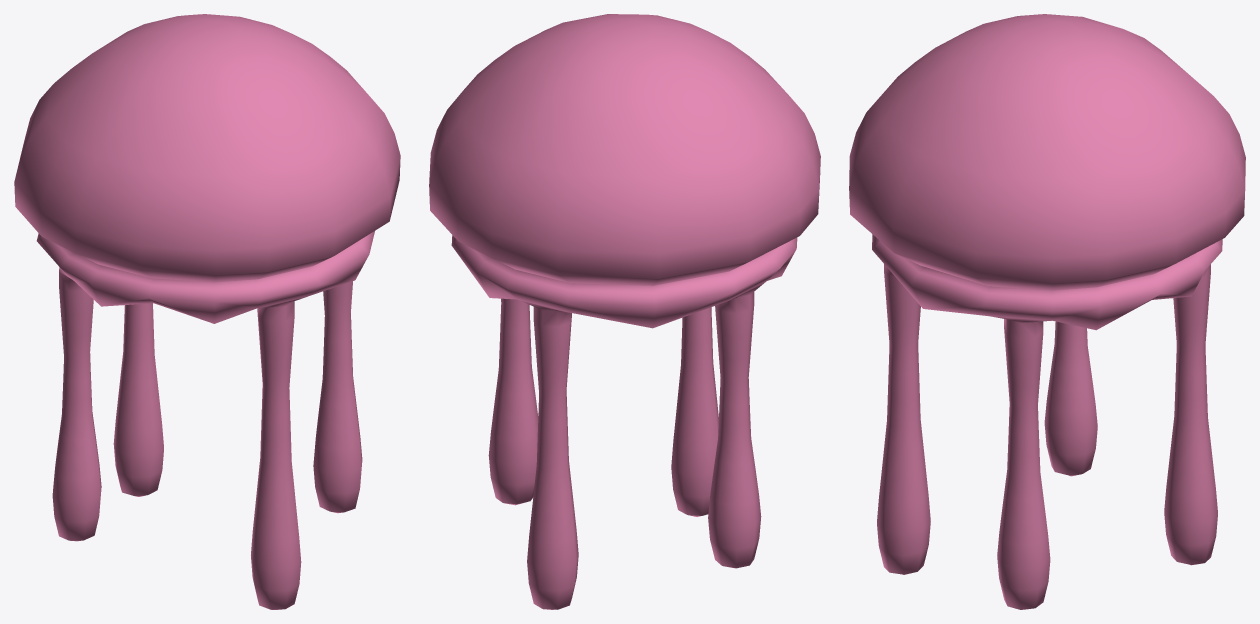
The model's file is Jellyfish.glb.
3 views of the same model, side by side, from view 1: azimuth 30°, elevation 25°; view 2: azimuth 150°, elevation 25°; view 3: azimuth 270°, elevation 25° (orthographic). The views are drawn at different scales.
Parts seen in each view (by area): view 1: Sphere; view 2: Sphere; view 3: Sphere.
Boxes of the visible parts, x1=… form: Sphere: x1=14, y1=14, x2=400, y2=609; Sphere: x1=429, y1=14, x2=820, y2=609; Sphere: x1=849, y1=14, x2=1245, y2=609.
Size of the model in its own units: 2.31 by 3.42 by 2.27.
